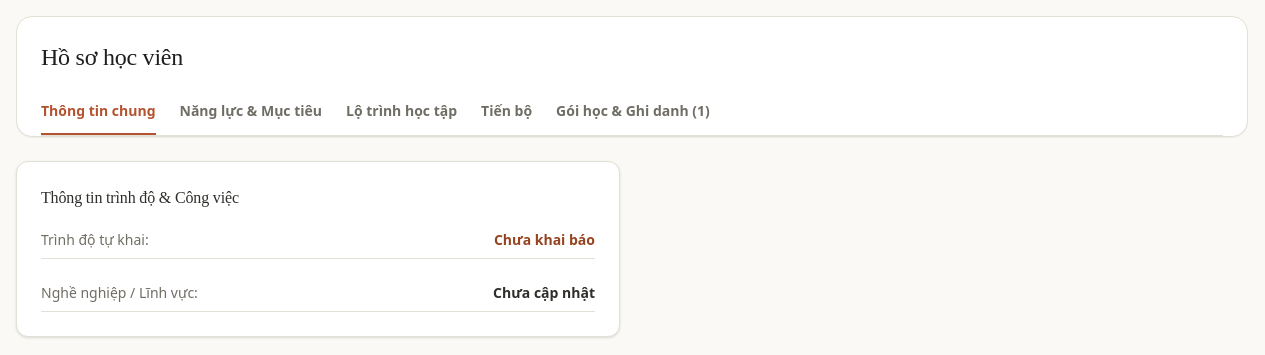
Test: StudentProfilePage: link trang ghi danh › giáo viên không thấy link
Click the button "Gói học & Ghi danh (1)".
click(633, 118)  # box [556,101,710,135]
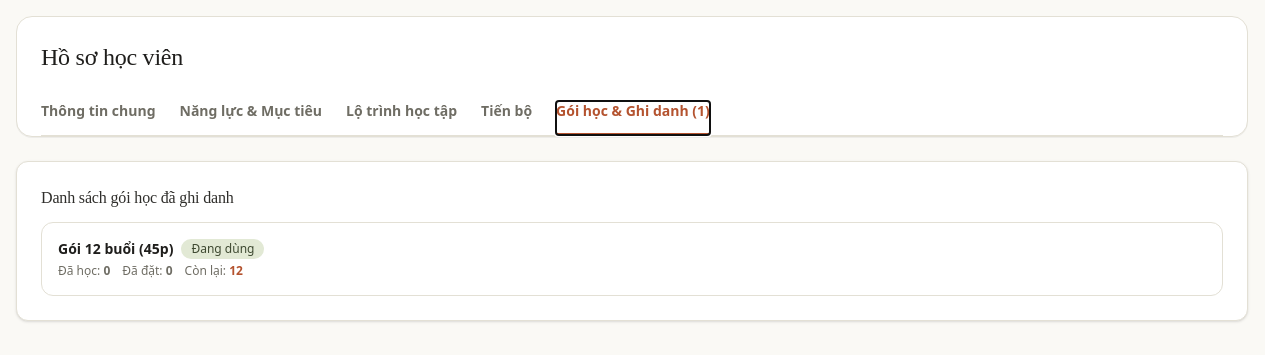
expect the text "Gói 12 buổi (45p)" is shown: met, box [58,239,173,259]
